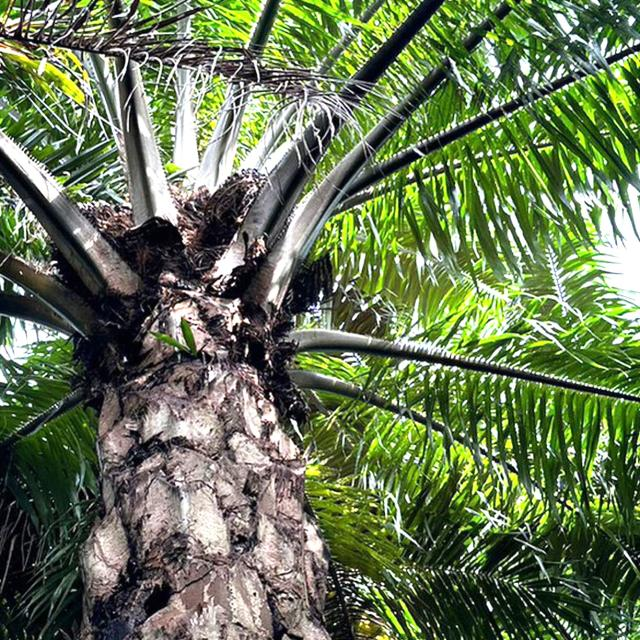almost: (203, 164, 276, 235)
